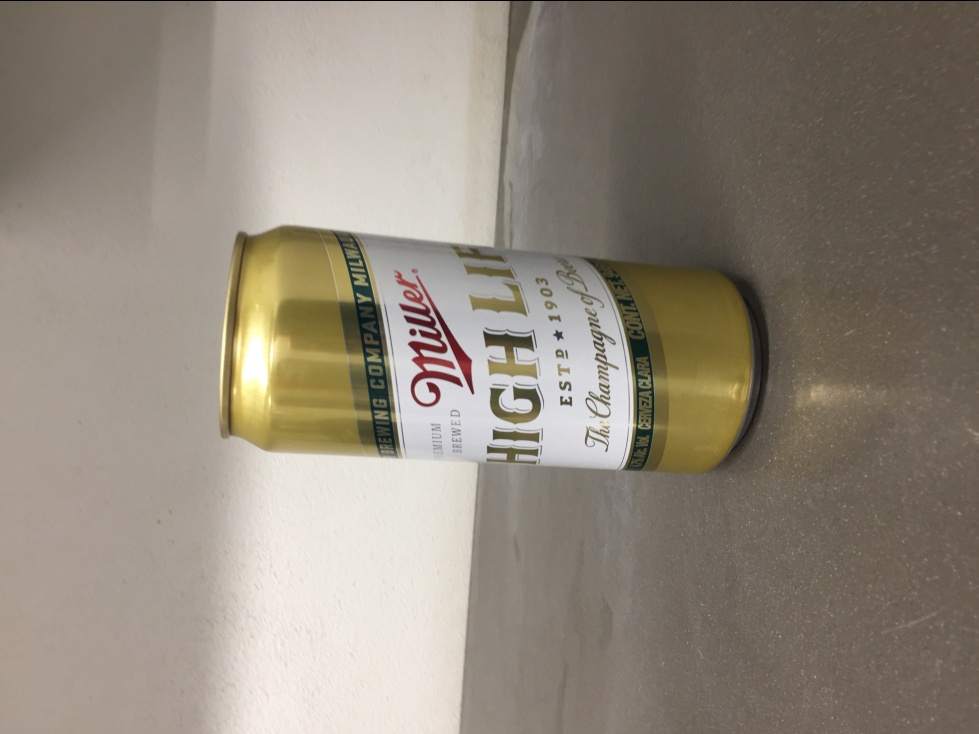miller: (211, 218, 763, 481)
